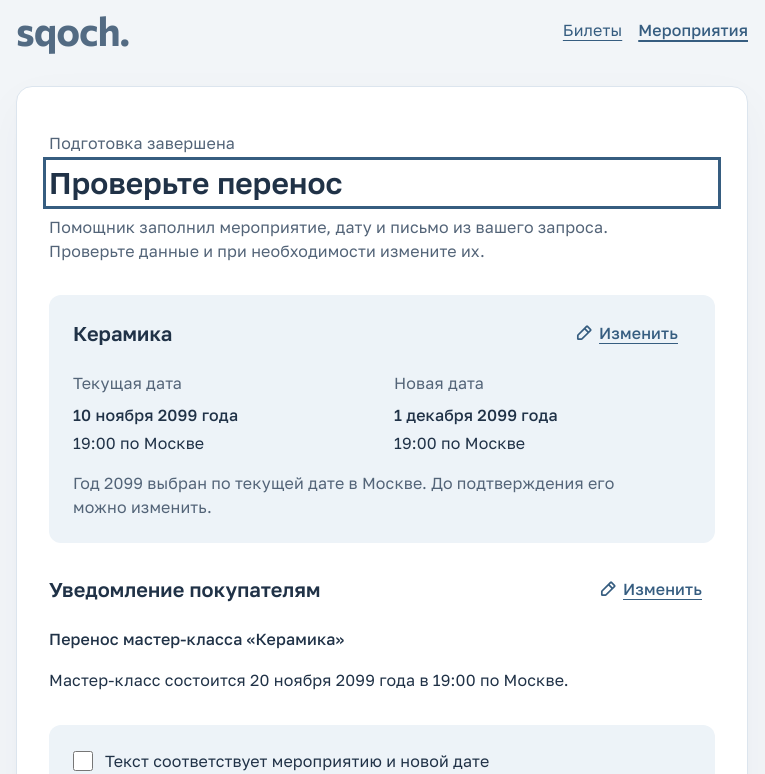
Верность SQOCH-39: реальные действия внутри принятой композиции › несохранённая ручная дата не показывает происхождение года от прежней даты
This screenshot has width=765, height=774.
expect the text "Год 2099 выбран по текущей дате" is shown: met, box [73,473,427,493]
Click the button with aria-label "Изменить мероприятие и дату" at coordinates (626, 333), box [562,311,691,355]
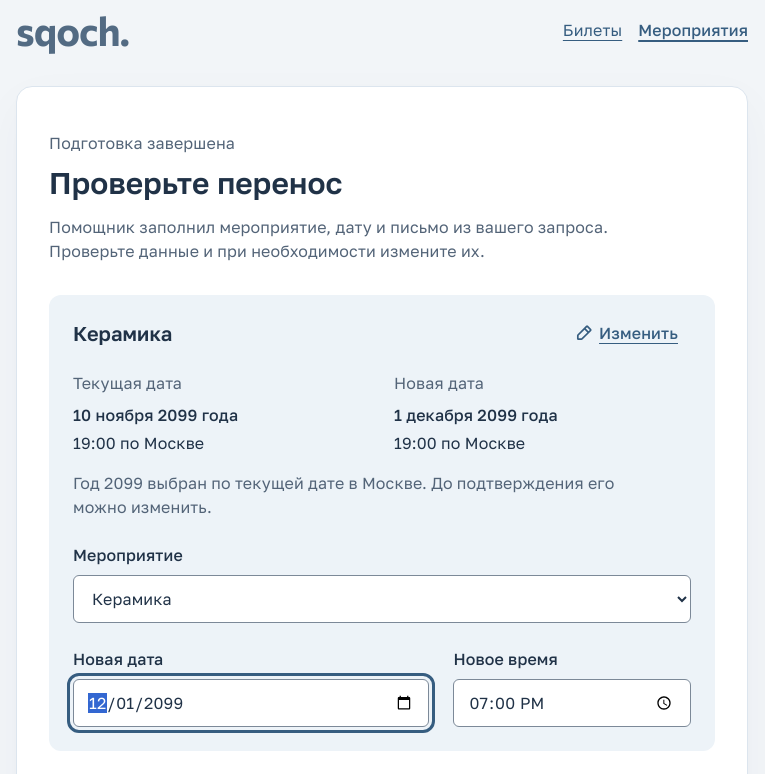
Type "2100-12-01" into the date field labelled "Новая дата" at coordinates (251, 703), box [73,679,429,727]
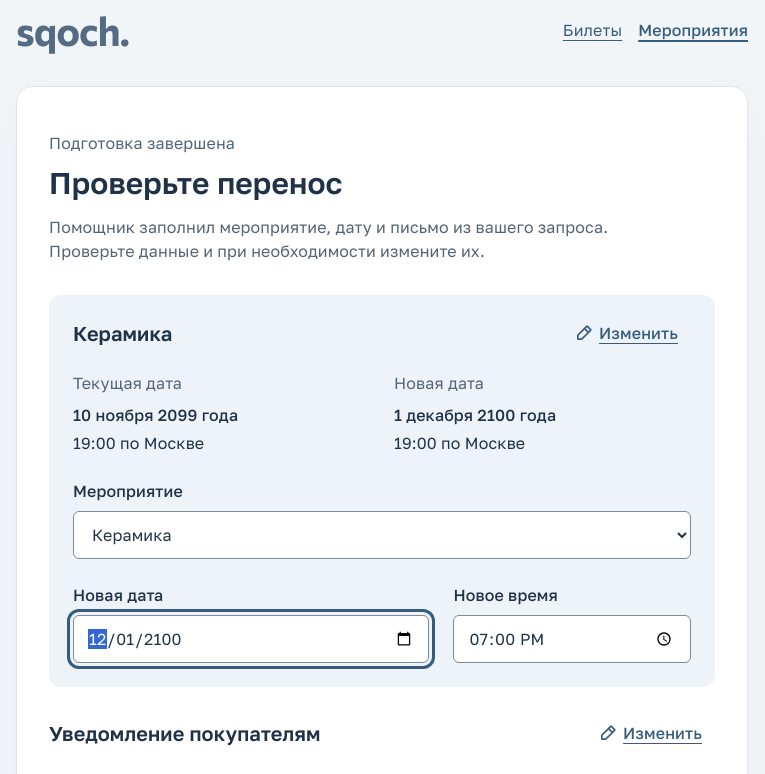
expect the text "Год 2099 выбран по текущей дате" is gone: met
expect the text "1 декабря 2100 года" is shown: met, box [394,405,556,425]
